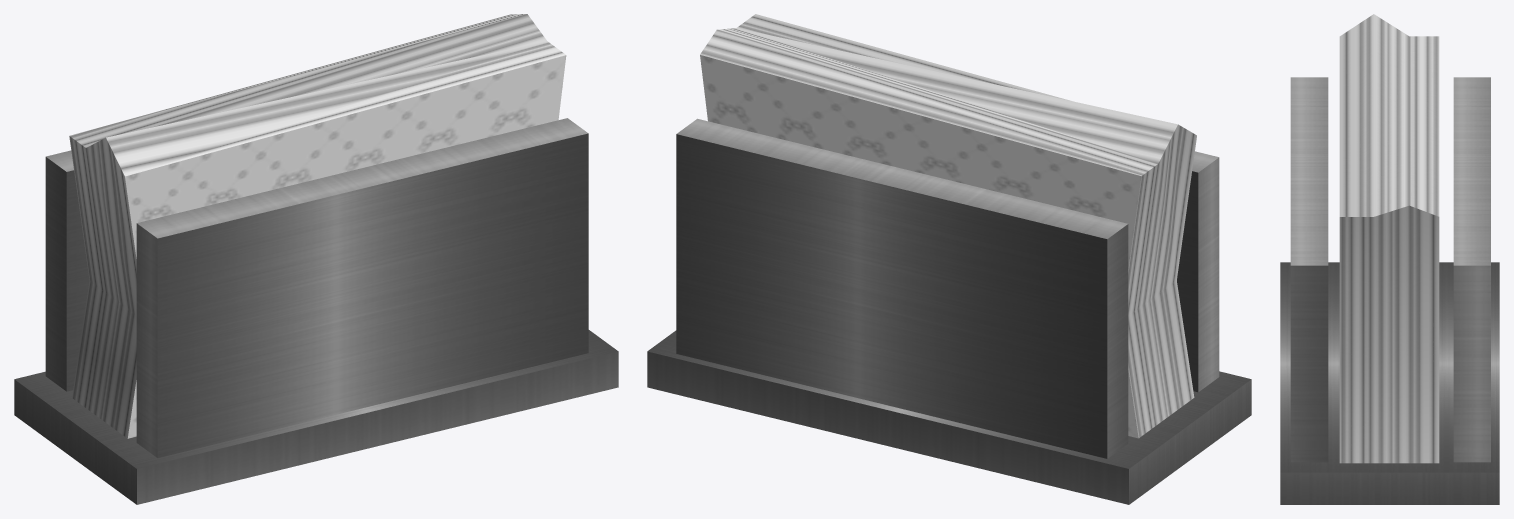
Rendered from Napkins_B.FBX.
3 views of the same model, side by side, from view 1: azimuth 30°, elevation 25°; view 2: azimuth 150°, elevation 25°; view 3: azimuth 270°, elevation 25° (orthographic). The views are drawn at different scales.
Visible parts, largest first — view 1: Napkin_Holder; view 2: Napkin_Holder; view 3: Napkin_Holder.
Boxes of the visible parts, box(x1,y1,x2,y2) form: Napkin_Holder: box(14, 14, 618, 504); Napkin_Holder: box(647, 14, 1251, 504); Napkin_Holder: box(1280, 14, 1499, 504).
Size of the model in its own units: 56.41 by 36.39 by 24.88.
